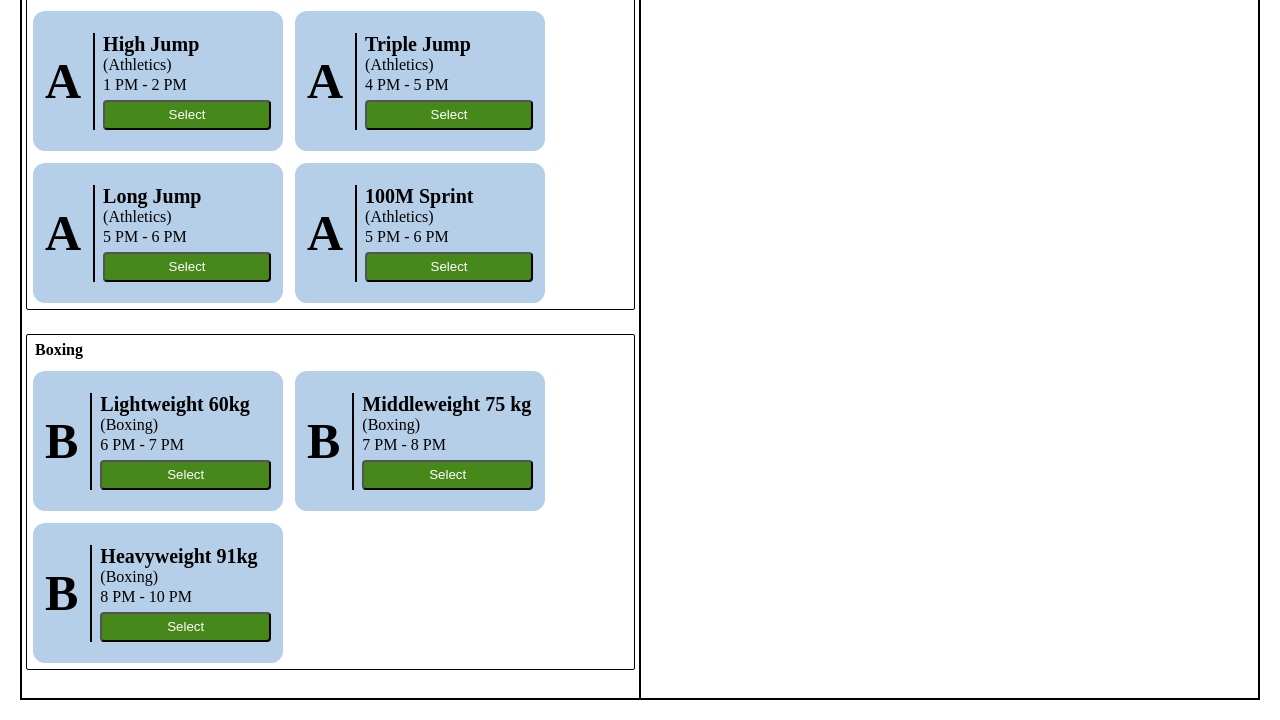
Test case: Events › checks if unable to select more than 3 events
The image size is (1280, 720).
(page scrolled)
Click the button with test id "event-action-8".
click(186, 475)  # box [100, 460, 271, 490]
(page scrolled)
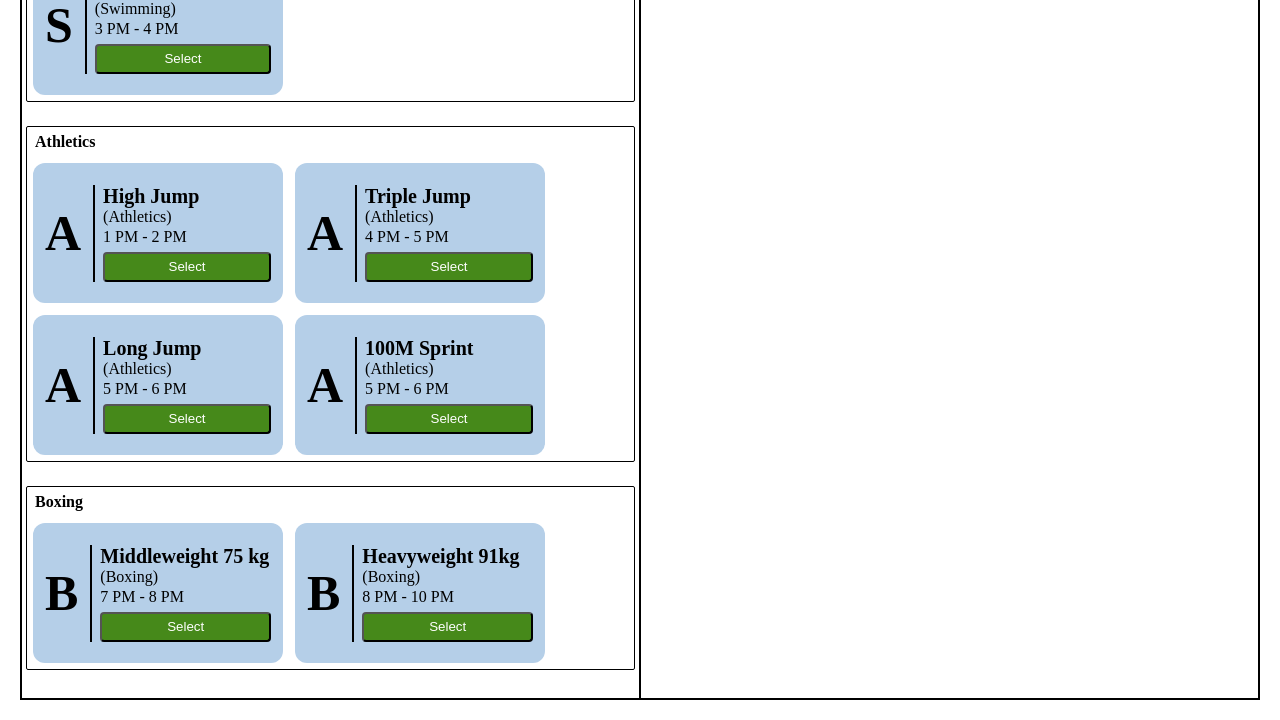
Click the button with test id "event-action-9".
click(186, 627)  # box [100, 612, 271, 642]
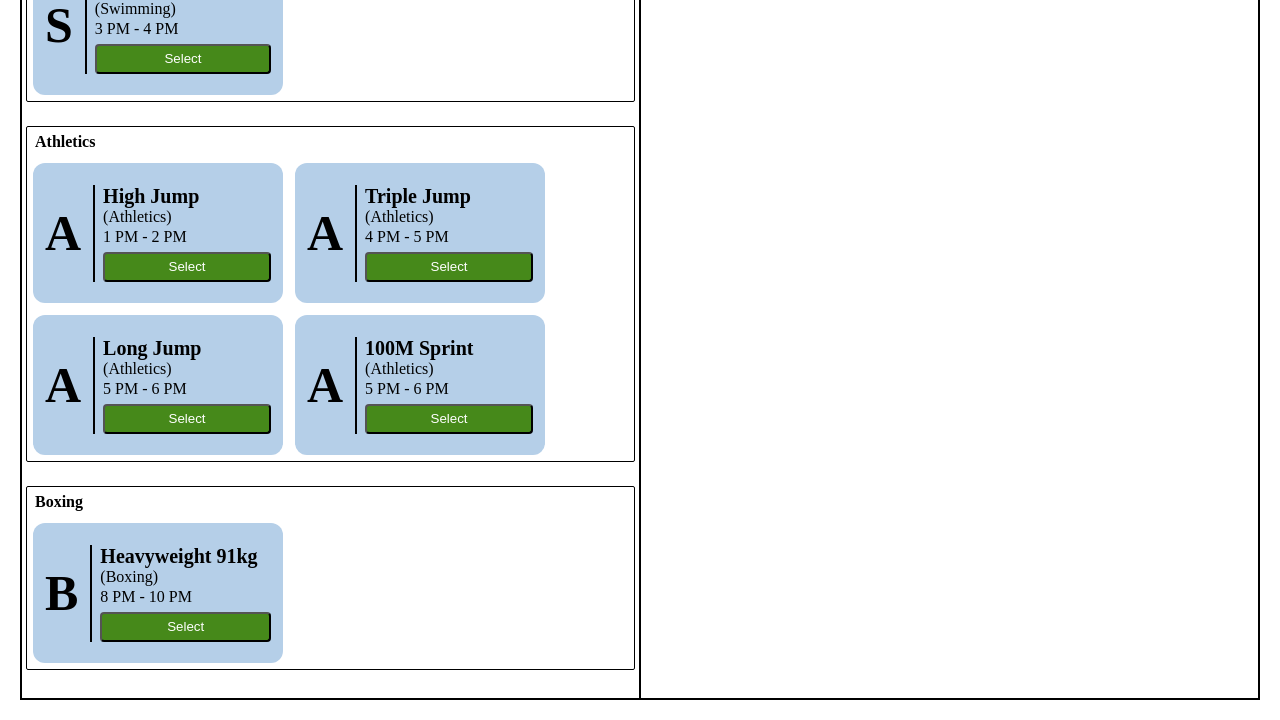
Click the button with test id "event-action-10".
click(186, 627)  # box [100, 612, 271, 642]
(page scrolled)
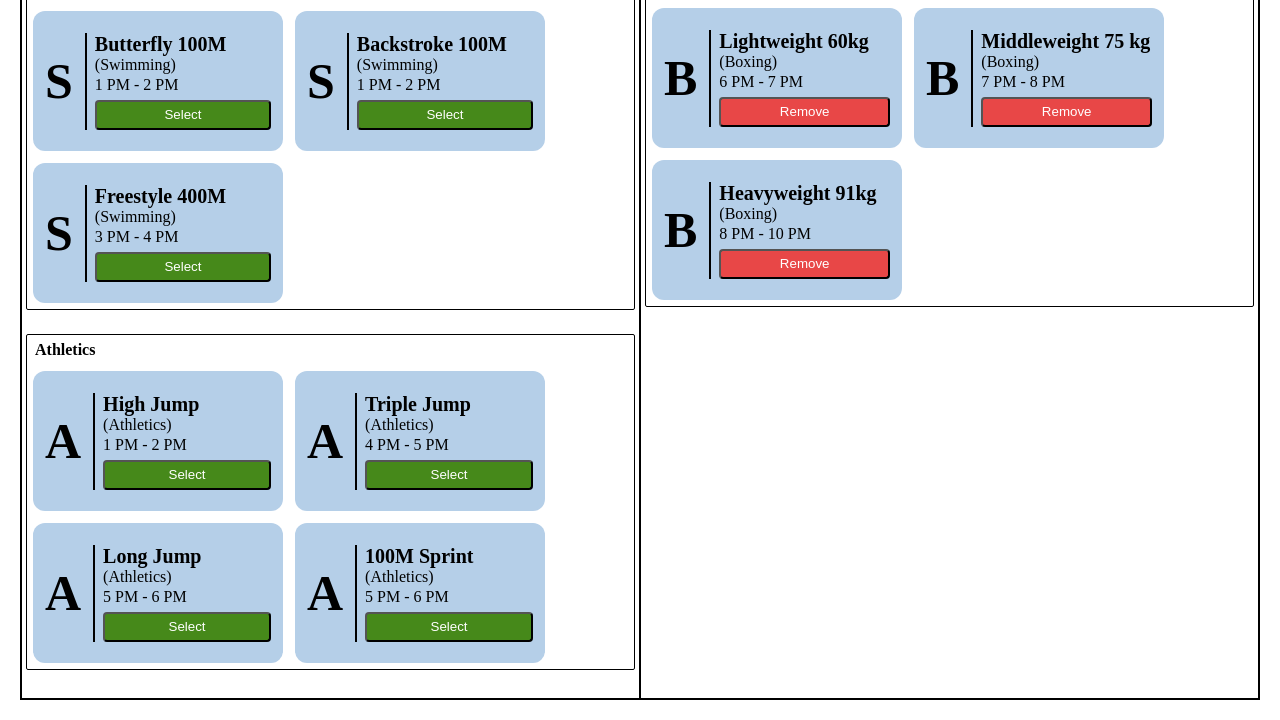
Result: the number of elements with test id "event-card" is 7
Result: the number of elements with test id "event-card-selected" is 3 at [652, 8, 902, 148]; [914, 8, 1164, 148]; [652, 160, 902, 300]
Click the button with test id "event-action-1".
click(183, 115)  # box [95, 100, 271, 130]
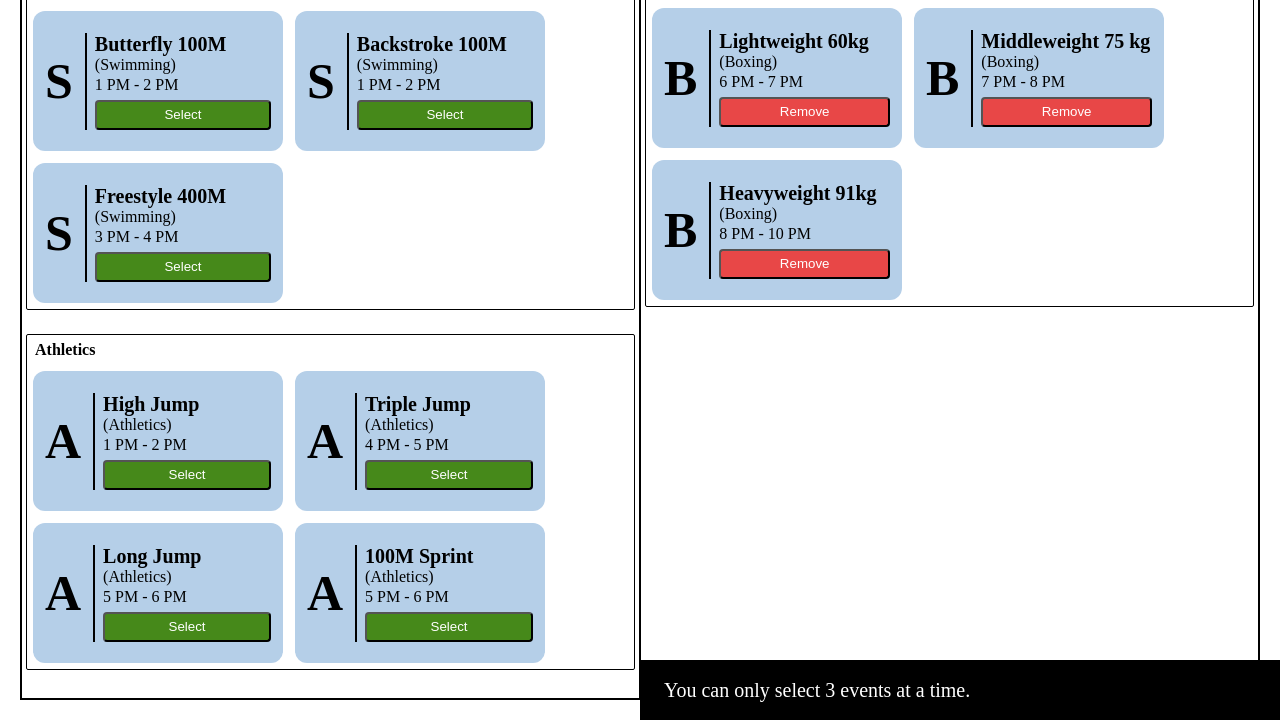
Result: the number of elements with test id "event-card" is 7
Result: the number of elements with test id "event-card-selected" is 3 at [652, 8, 902, 148]; [914, 8, 1164, 148]; [652, 160, 902, 300]
Result: the text with test id "toast-body" reads "You can only select 3 events at a time." at [664, 679, 970, 701]
